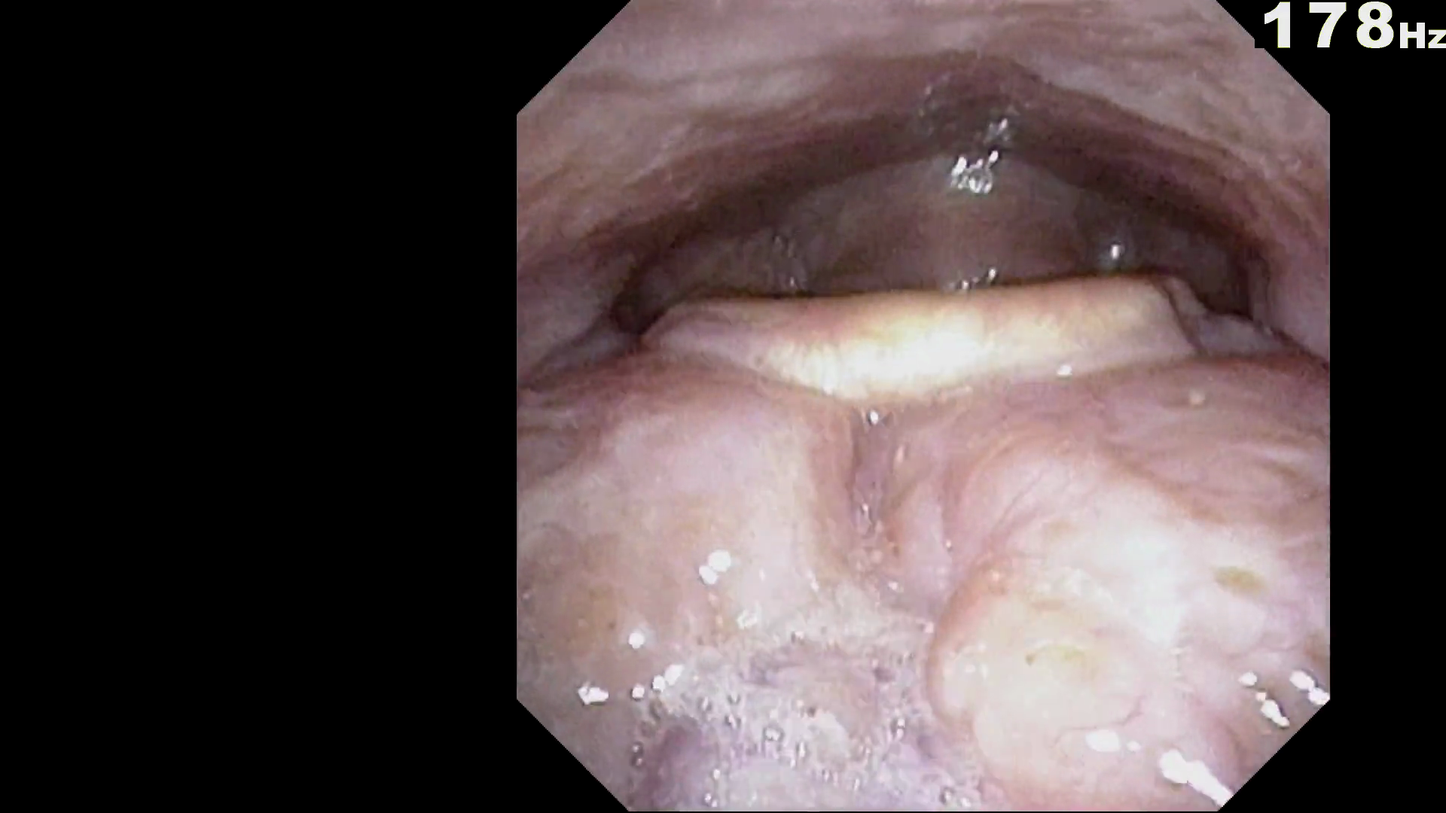epiglottis: (650, 224, 1248, 487)
